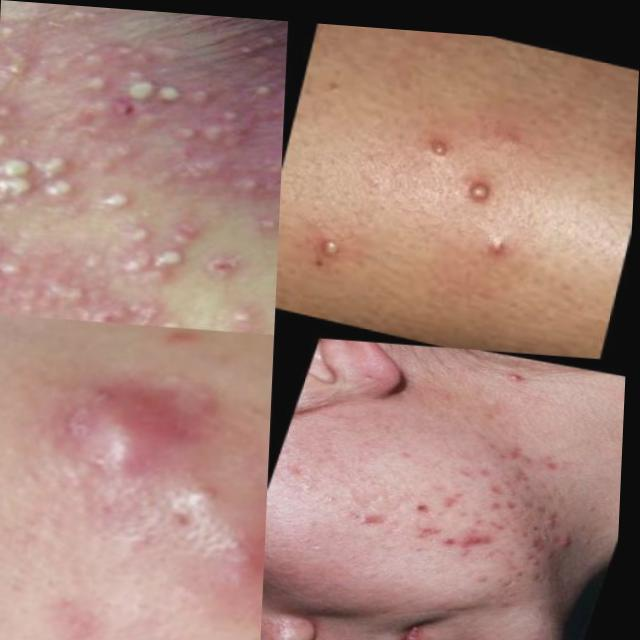8: (344, 494, 395, 532), (240, 195, 281, 239), (476, 222, 520, 261)
9: (181, 437, 247, 523), (0, 37, 53, 100), (84, 172, 147, 223), (160, 202, 220, 252), (104, 241, 161, 286), (43, 270, 99, 313), (65, 61, 120, 103), (33, 140, 89, 181), (113, 211, 164, 253), (116, 68, 167, 109), (55, 3, 116, 36), (145, 234, 196, 273), (241, 60, 285, 105), (148, 71, 197, 110), (34, 168, 83, 207), (0, 5, 35, 55), (223, 295, 270, 330), (0, 249, 38, 288), (0, 0, 58, 17), (0, 109, 20, 158)
blackheads: (203, 474, 271, 611), (0, 145, 49, 209), (157, 108, 211, 151), (255, 119, 284, 193), (460, 519, 503, 548), (268, 62, 285, 127), (414, 513, 454, 533), (0, 205, 11, 268), (482, 470, 513, 492), (525, 557, 555, 578), (505, 489, 535, 508)
pustules: (53, 366, 217, 505), (506, 361, 536, 379)
whiteheads: (455, 163, 502, 205), (308, 223, 355, 264), (206, 90, 253, 125), (422, 124, 457, 162)
